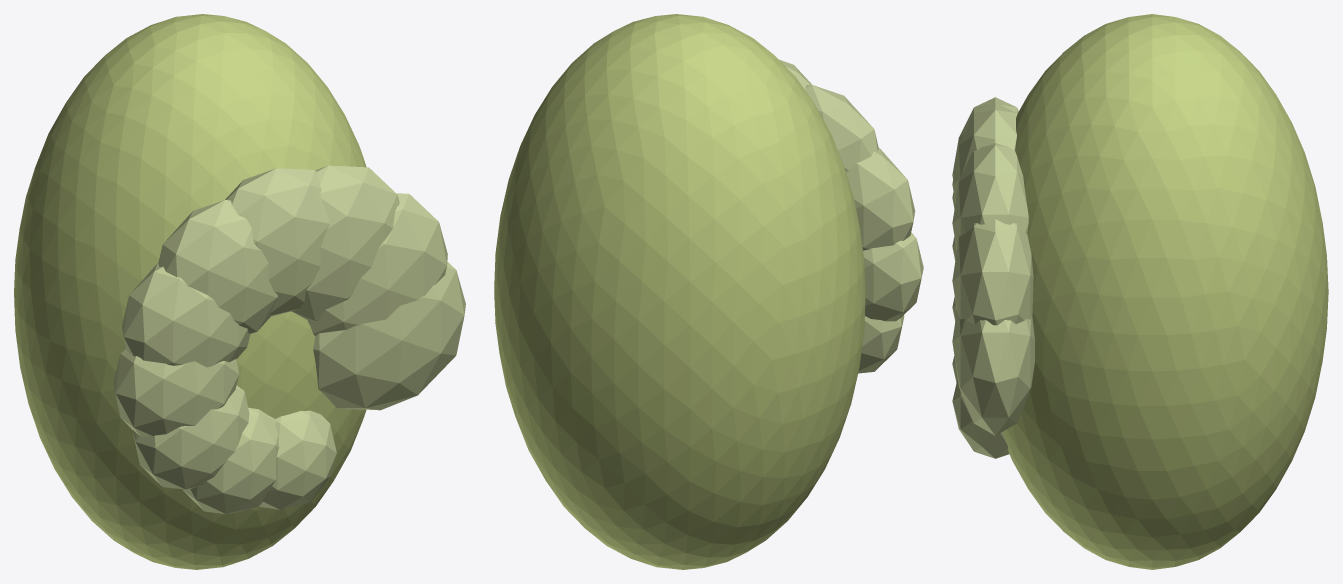
3 renders of one model, left to right at view 1: azimuth 30°, elevation 25°; view 2: azimuth 150°, elevation 25°; view 3: azimuth 270°, elevation 25°, orthographic.
Visible parts, largest first — view 1: nautilus_00, nautilus_01, nautilus_05, nautilus_04, nautilus_03, nautilus_06, nautilus_02, nautilus_07, nautilus_08, nautilus_09, nautilus_10; view 2: nautilus_00, nautilus_06, nautilus_07, nautilus_05, nautilus_08; view 3: nautilus_00, nautilus_01, nautilus_02, nautilus_03, nautilus_04, nautilus_10.
Boxes of the visible parts, box(x1,y1,x2,y2) form: nautilus_00: box(14, 14, 366, 569); nautilus_01: box(313, 262, 465, 410); nautilus_05: box(158, 200, 277, 333); nautilus_04: box(225, 168, 330, 316); nautilus_03: box(292, 165, 399, 321); nautilus_06: box(122, 263, 250, 367); nautilus_02: box(308, 193, 447, 335); nautilus_07: box(113, 348, 239, 436); nautilus_08: box(132, 385, 249, 489); nautilus_09: box(182, 407, 279, 514); nautilus_10: box(259, 410, 336, 509); nautilus_00: box(494, 14, 865, 569); nautilus_06: box(846, 148, 915, 250); nautilus_07: box(863, 232, 923, 321); nautilus_05: box(805, 84, 878, 171); nautilus_08: box(858, 315, 904, 373); nautilus_00: box(1003, 14, 1328, 569); nautilus_01: box(952, 309, 1034, 435); nautilus_02: box(952, 219, 1033, 325); nautilus_03: box(952, 143, 1028, 250); nautilus_04: box(952, 102, 1017, 202); nautilus_10: box(952, 379, 1009, 458).
Bounding box in the file's own units: 1.03 × 1.5 × 0.96.
